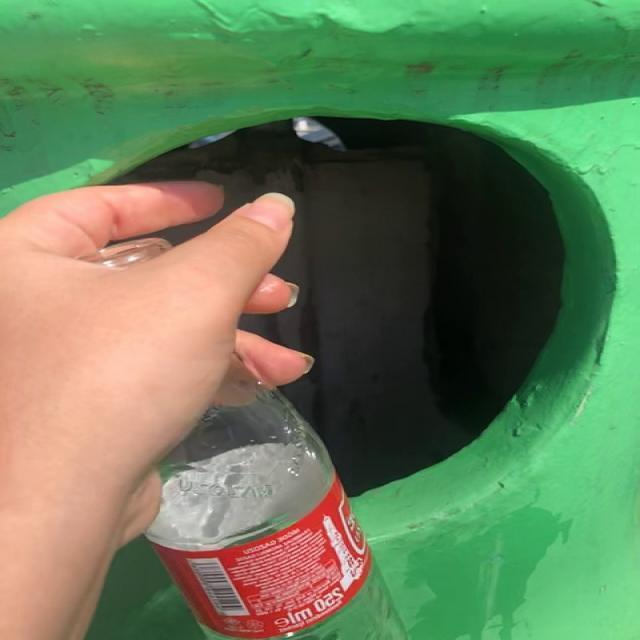Glass: (145, 356, 333, 550), (79, 238, 171, 270)
